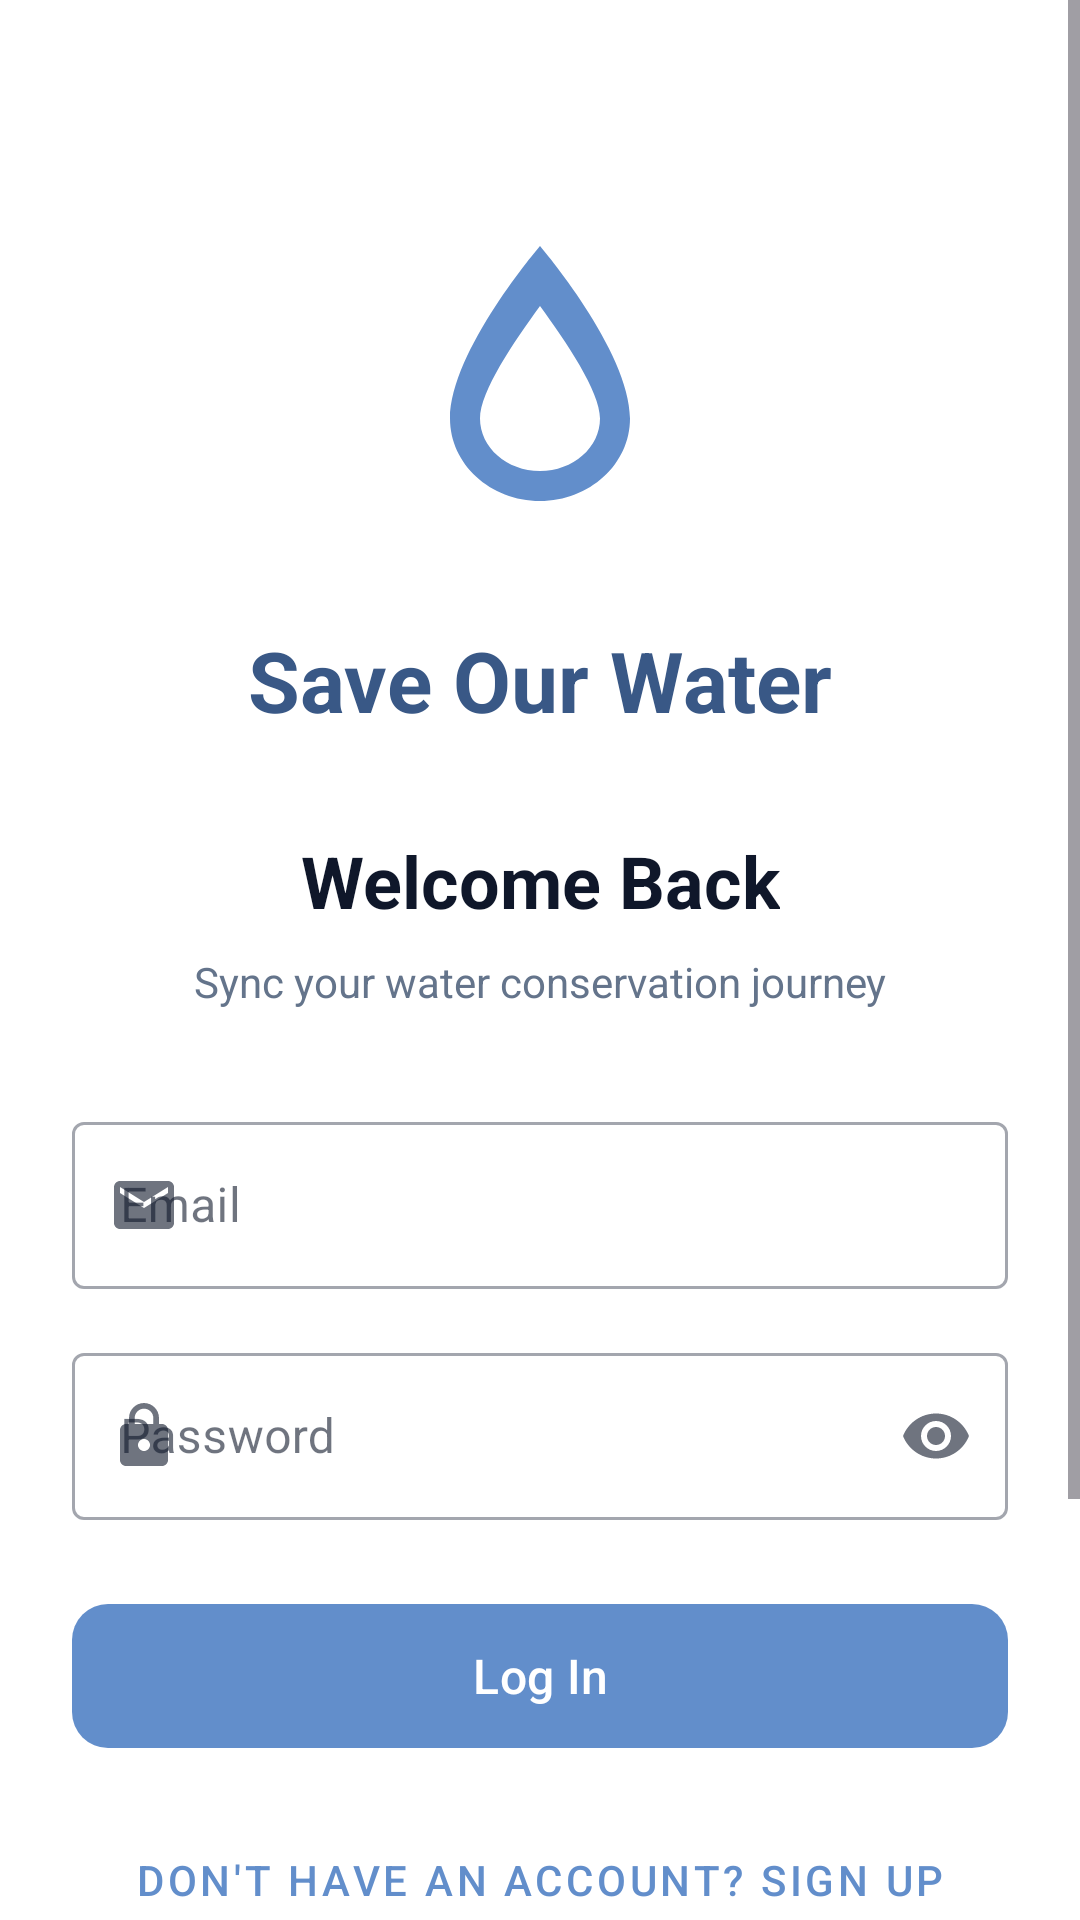

Icon bounding boxes for this 1080*1920 phone screenshot, format [x1, y1, x2, y2]:
water drop: [450, 246, 630, 501]
